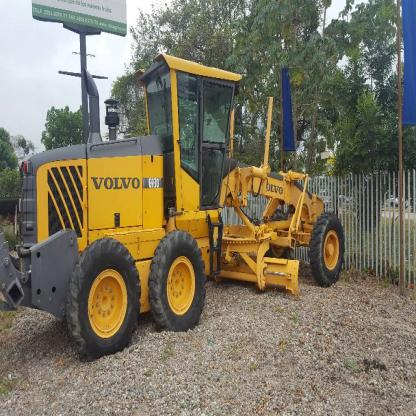bull_dozer/loader/grader: (3, 50, 352, 357)
